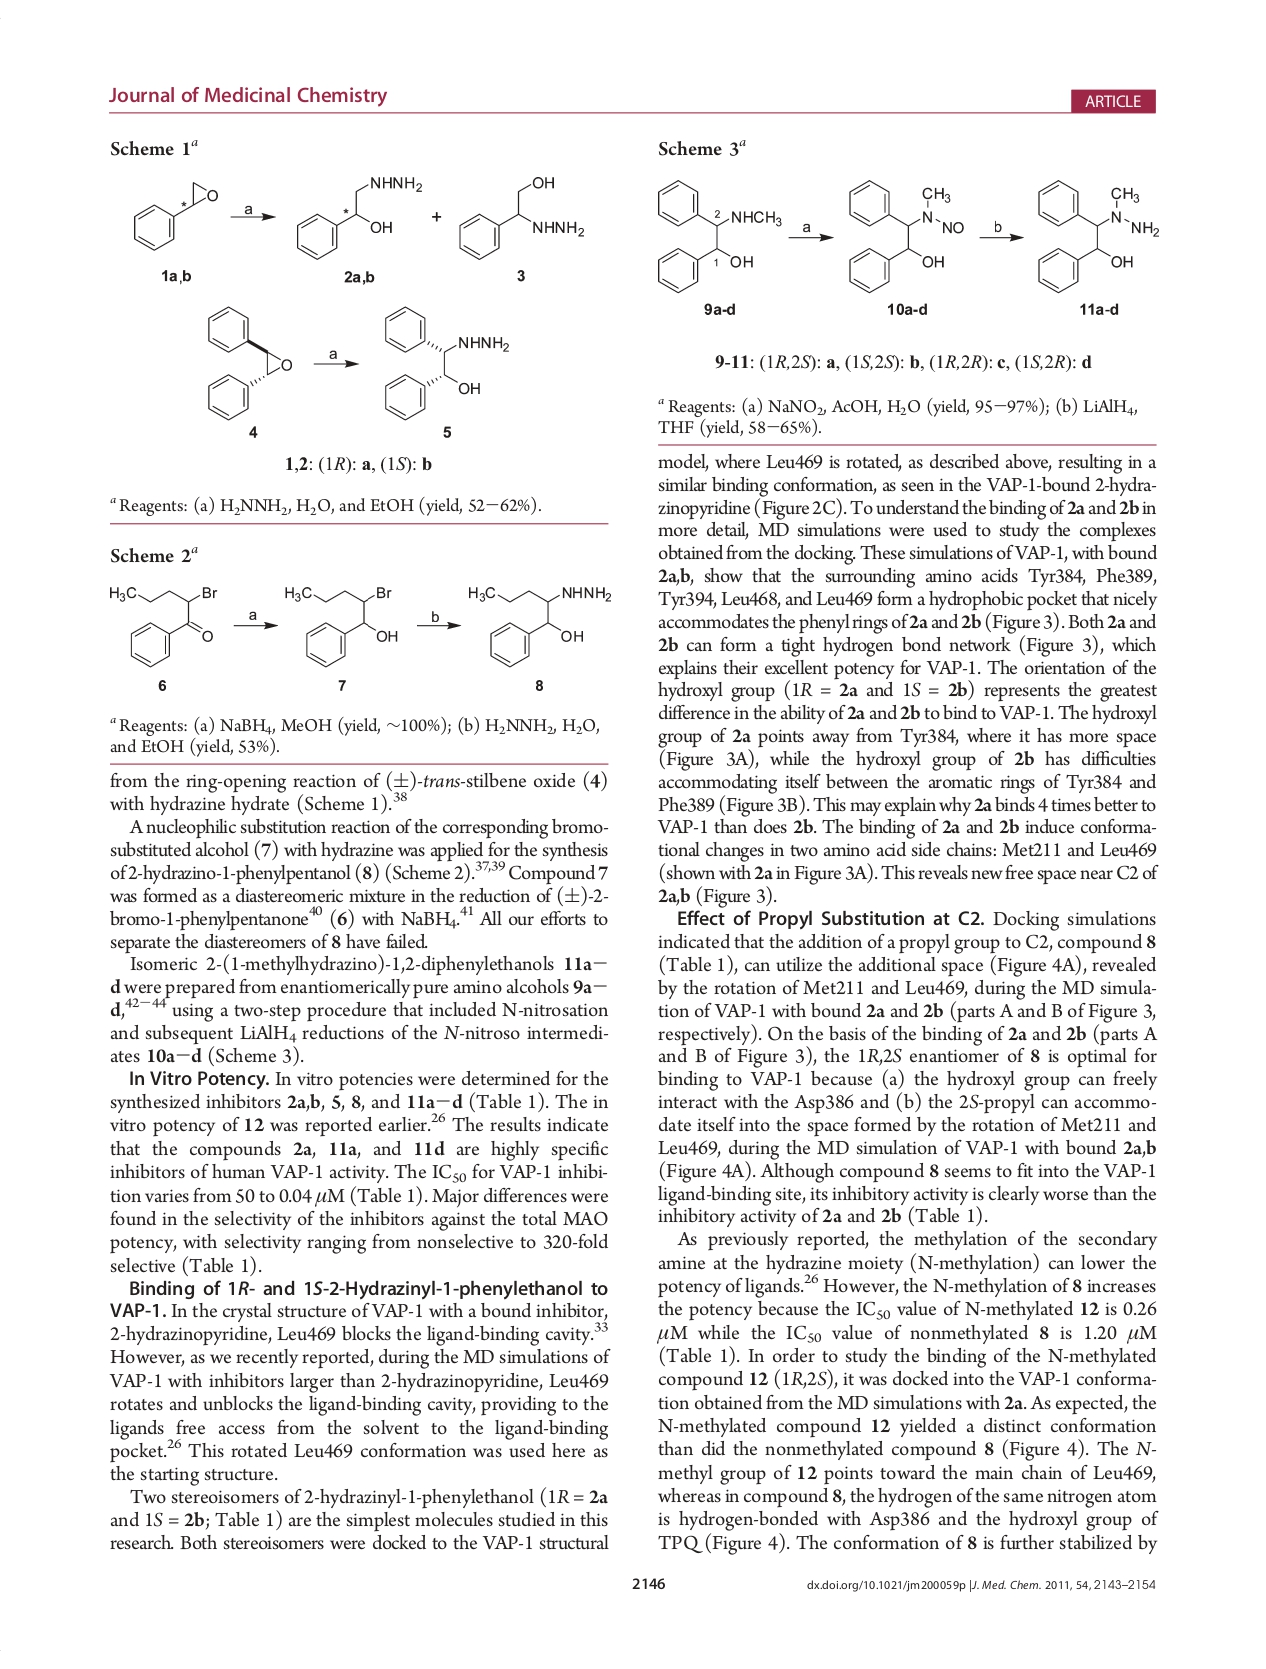exist_molecular: (652, 174, 786, 297), (380, 303, 513, 424), (840, 174, 965, 297), (1035, 174, 1160, 297), (467, 578, 610, 668), (293, 174, 426, 263), (201, 297, 294, 423), (455, 174, 586, 263), (102, 582, 221, 673), (282, 582, 402, 672), (132, 176, 222, 255)
